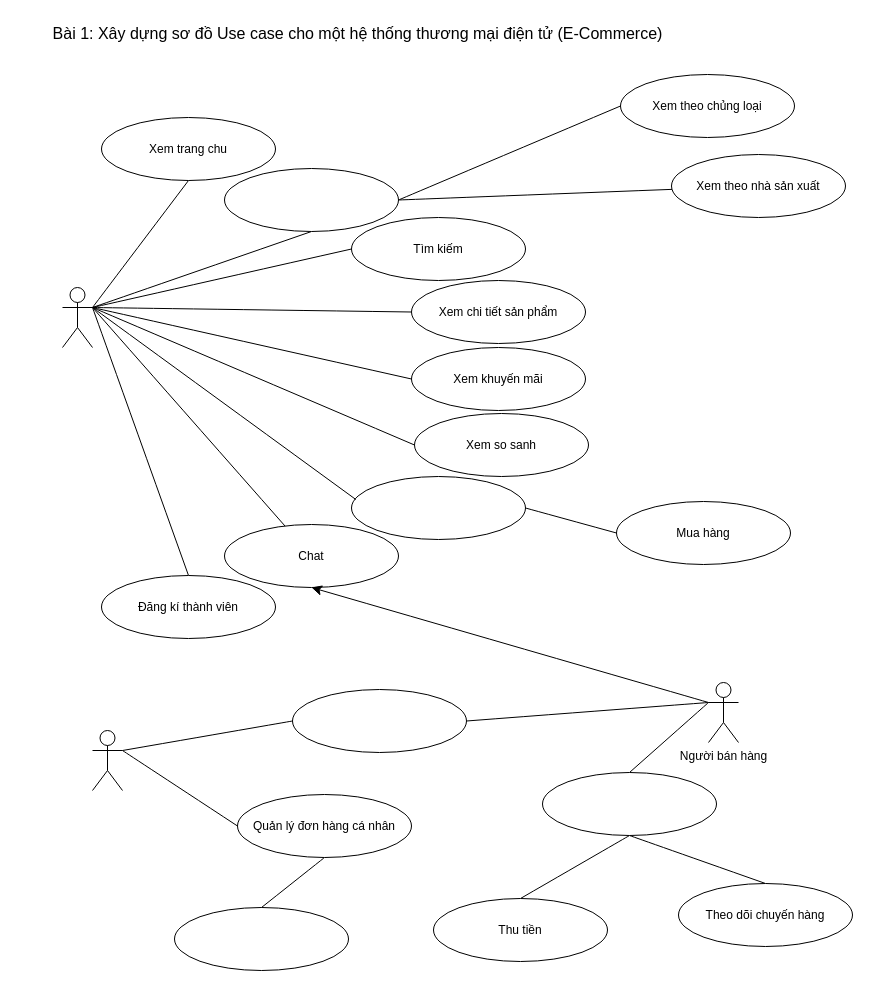
This 870x988 diagram has some shape labels left out. Here are the shapes that lost their labels. From the top down, the centre of each, then its label:
the point at 311,200: Xem sản phẩm
the point at 77,317: Khach hang tiem nang
the point at 438,508: Quản lý giỏ hàng
the point at 379,720: Đăng nhập
the point at 107,760: Khách hàng
the point at 629,804: Quan lý đơn hàng
the point at 261,938: Thanh toán
